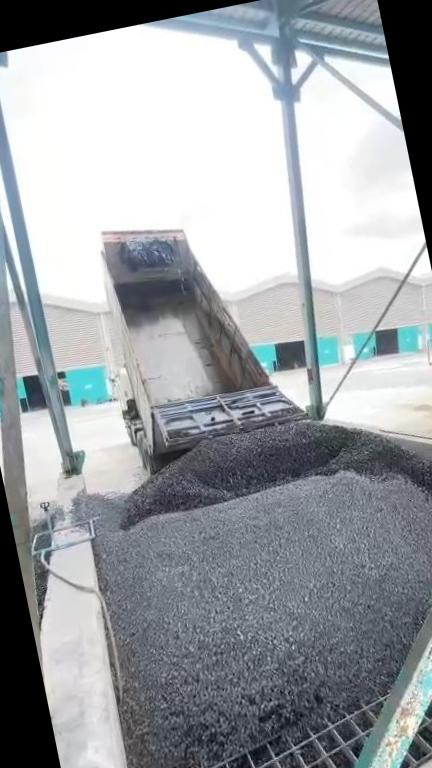gravel: (70, 421, 432, 768), (32, 519, 52, 625)
sand: (413, 396, 432, 442)
